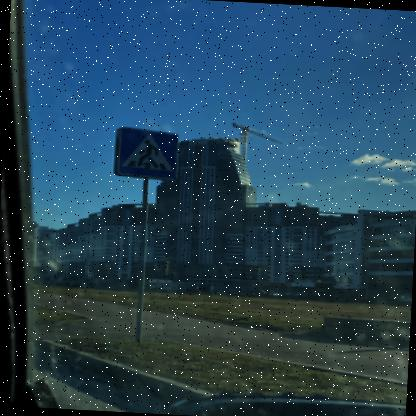crosswalk: (111, 124, 180, 178)
